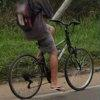bicycles: (7, 17, 96, 100)
